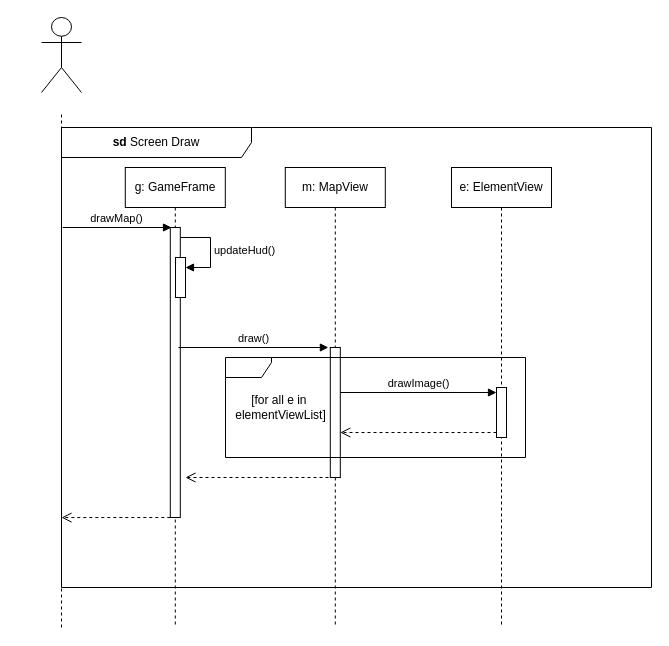
Some shapes in this 669 by 646 pixel diagram are drawn without their labels. The box of each missing label's shape, as (x1, y1, x2, y2) in pixels:
:GameController: (40, 16, 82, 92)
loop: (224, 356, 526, 458)
